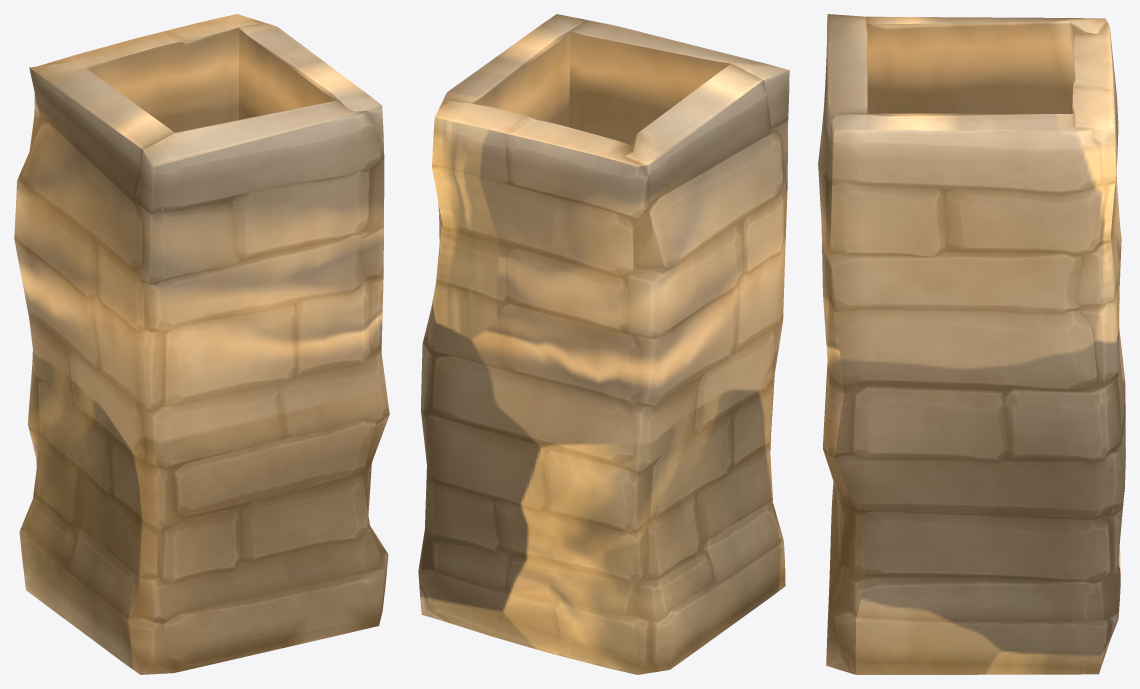
Rendered from SM_Chimney.fbx.
3 renders of one model, left to right at view 1: azimuth 30°, elevation 25°; view 2: azimuth 150°, elevation 25°; view 3: azimuth 270°, elevation 25°, orthographic. The views are drawn at different scales.
Parts seen in each view (by area): view 1: SM_Chimney_LOD0; view 2: SM_Chimney_LOD0; view 3: SM_Chimney_LOD0.
Boxes of the visible parts, bbox=[...] form: SM_Chimney_LOD0: bbox=[14, 14, 389, 674]; SM_Chimney_LOD0: bbox=[418, 14, 789, 674]; SM_Chimney_LOD0: bbox=[818, 14, 1125, 674].
Size of the model in its own units: 106 by 105 by 207.
